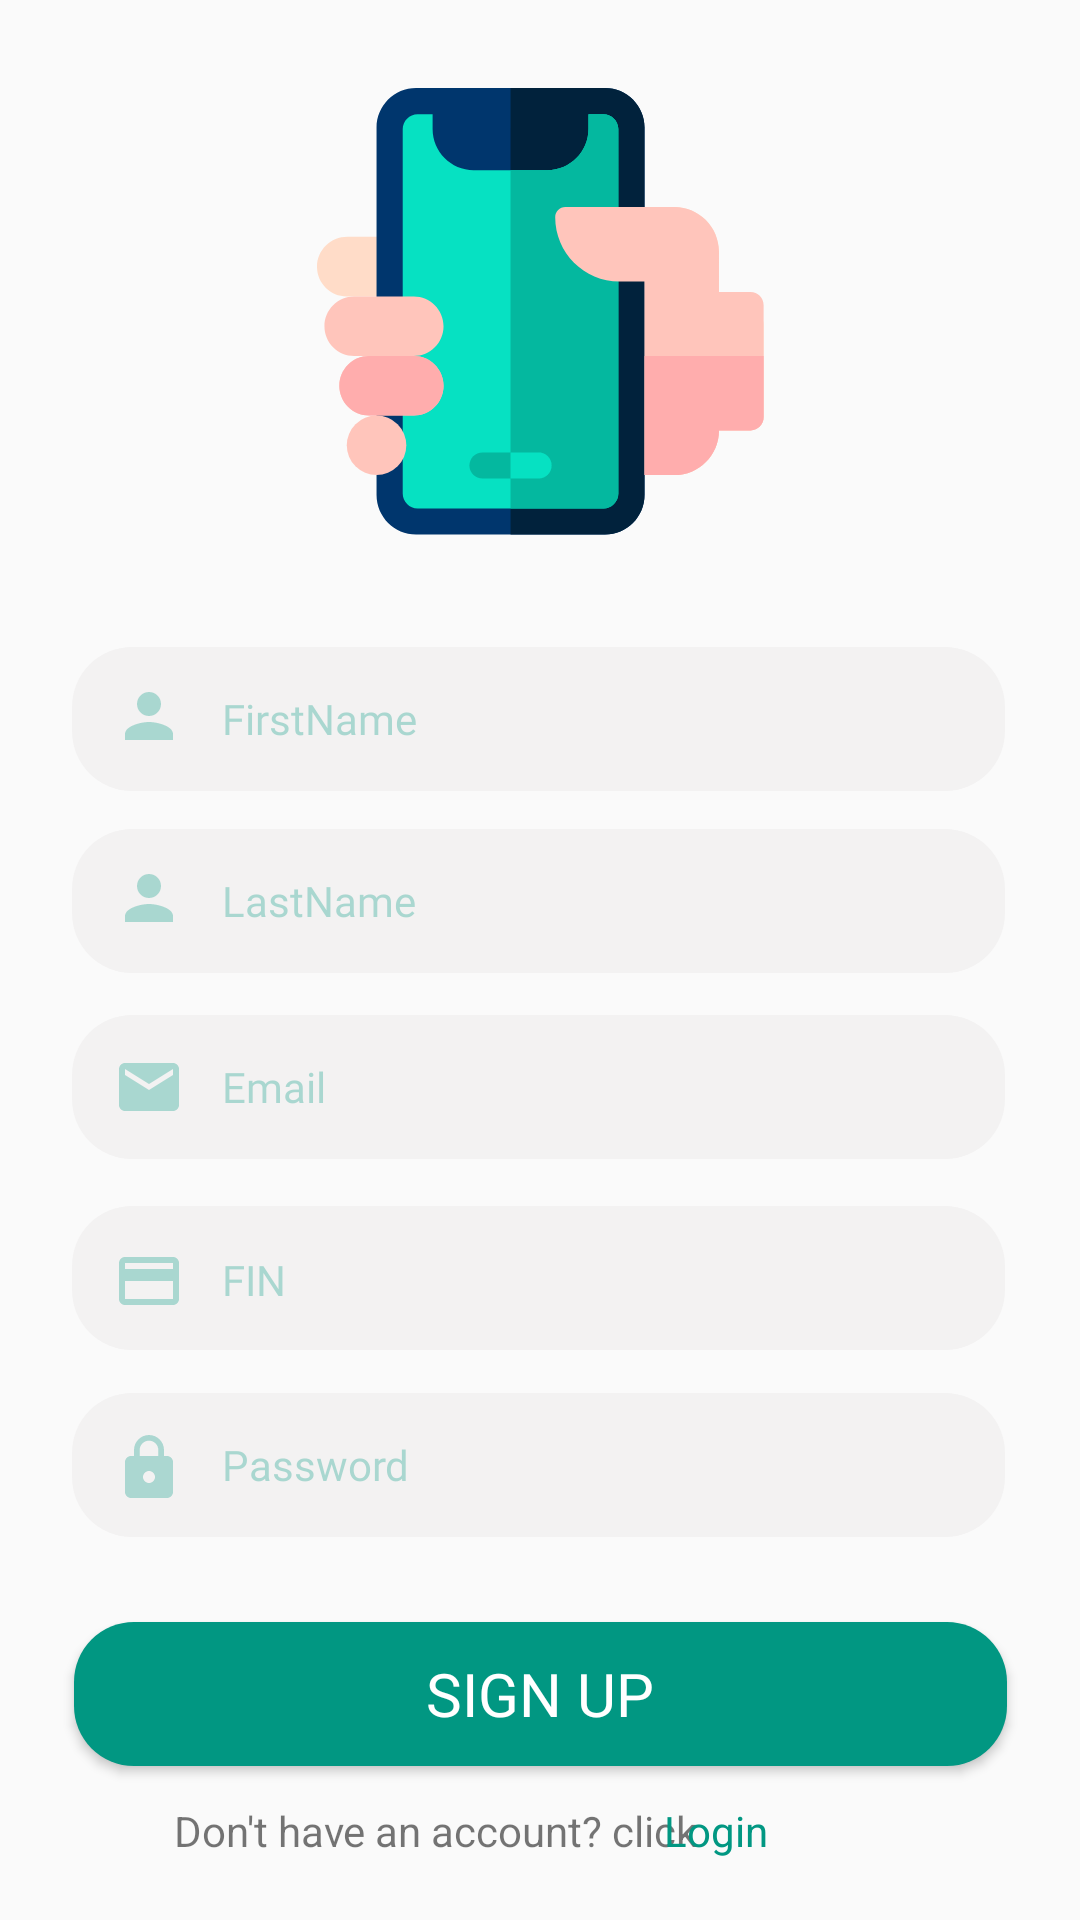

Icon click points for this 1080x1920 phone screenshot, format [x,y]:
credit card: [149,1281]
lock: [149,1466]
person: [149,716], [149,898]
